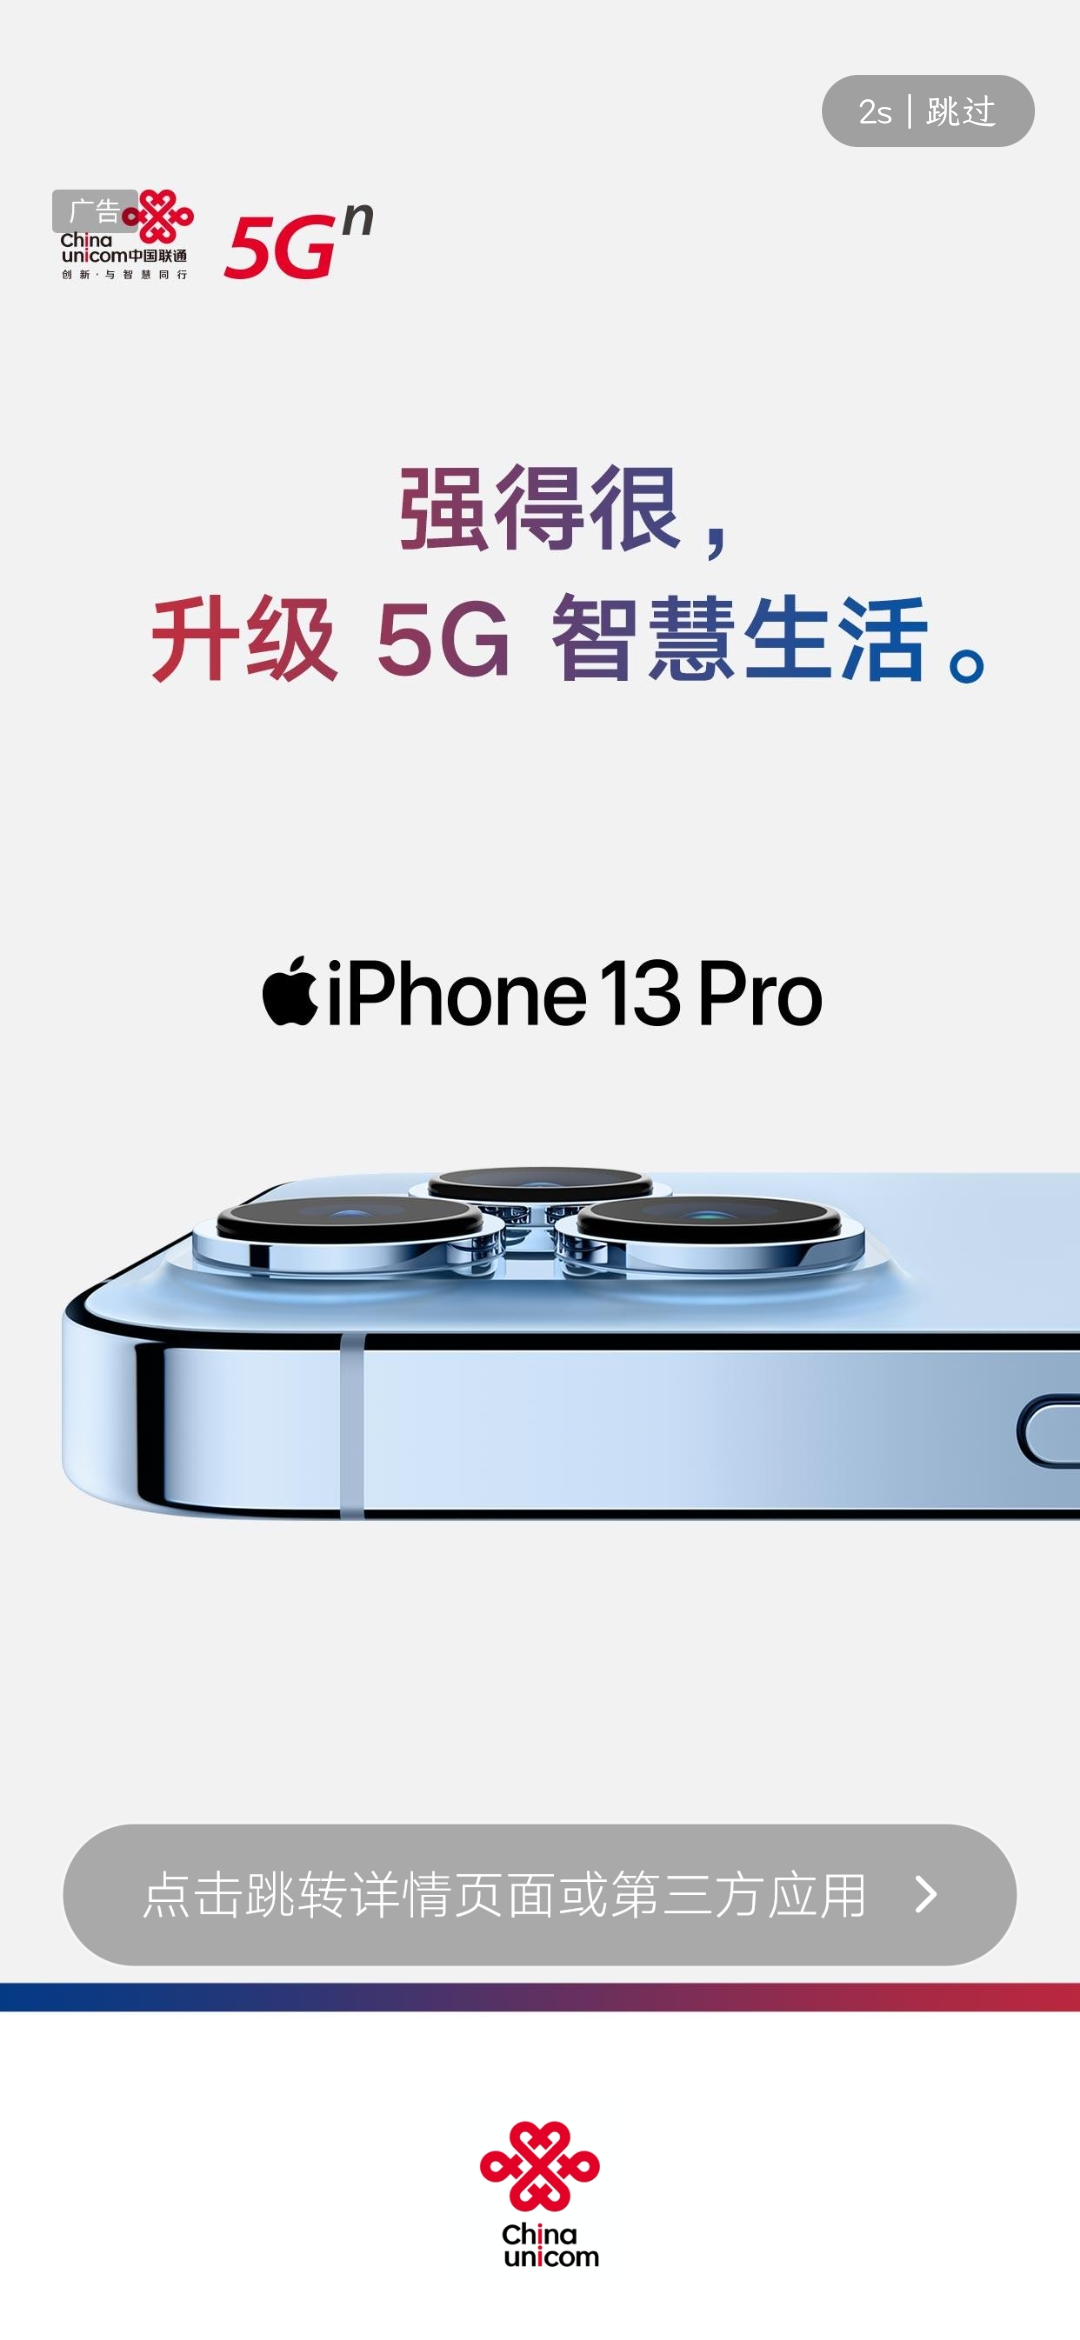skip: (835, 72, 1017, 151)
